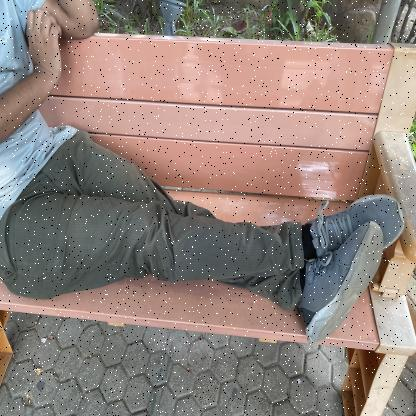hand: (0, 6, 85, 136)
leg: (276, 218, 401, 346), (275, 186, 413, 262)
